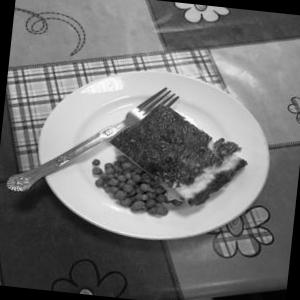casserole: (92, 88, 256, 228)
